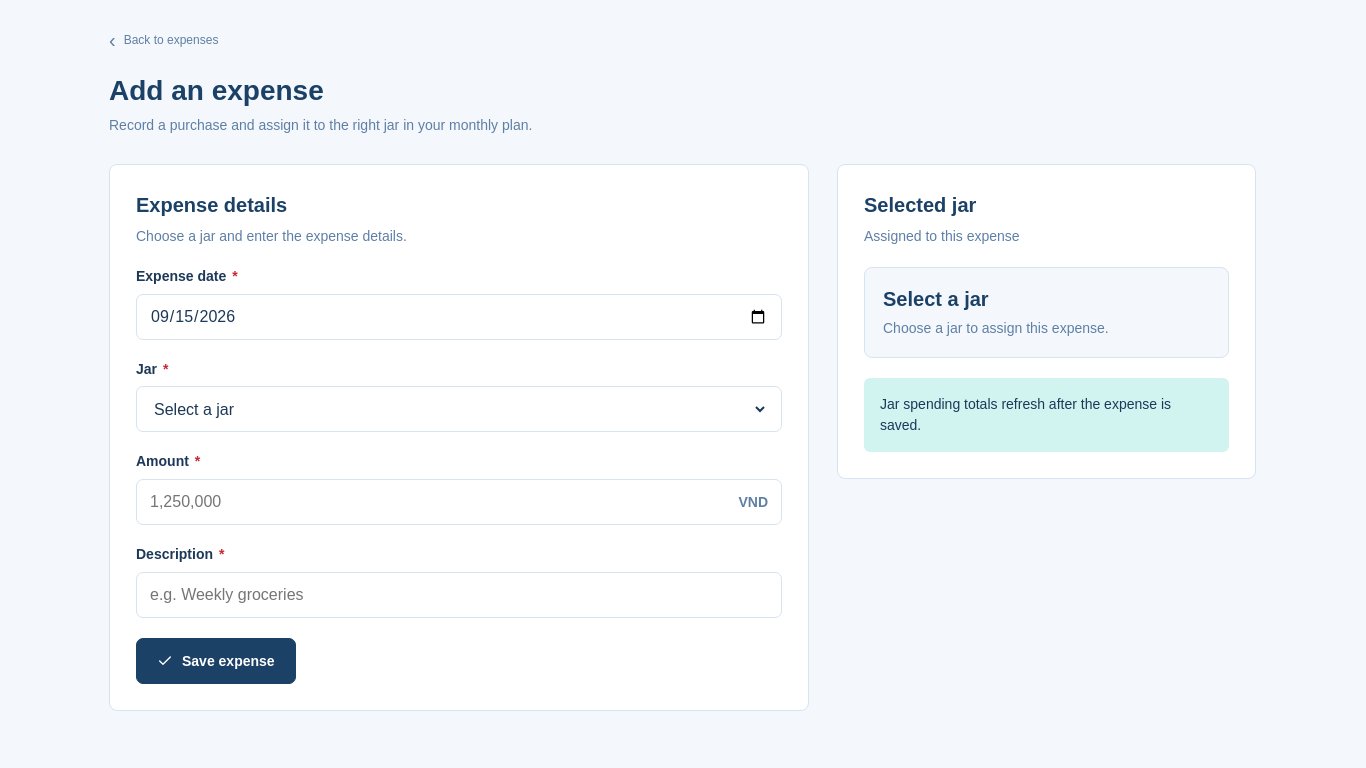
Test: AddExpensePageComponent › month changes (AC1, AC5, AC6, TC_F3_001, TC_F3_007) › shows a date error and sends nothing for 29 February of a non-leap year
Type "2026-02-29" into the date field with id "expense-date" at (459, 317), box [150,296,768,338]
Wait 300 ms
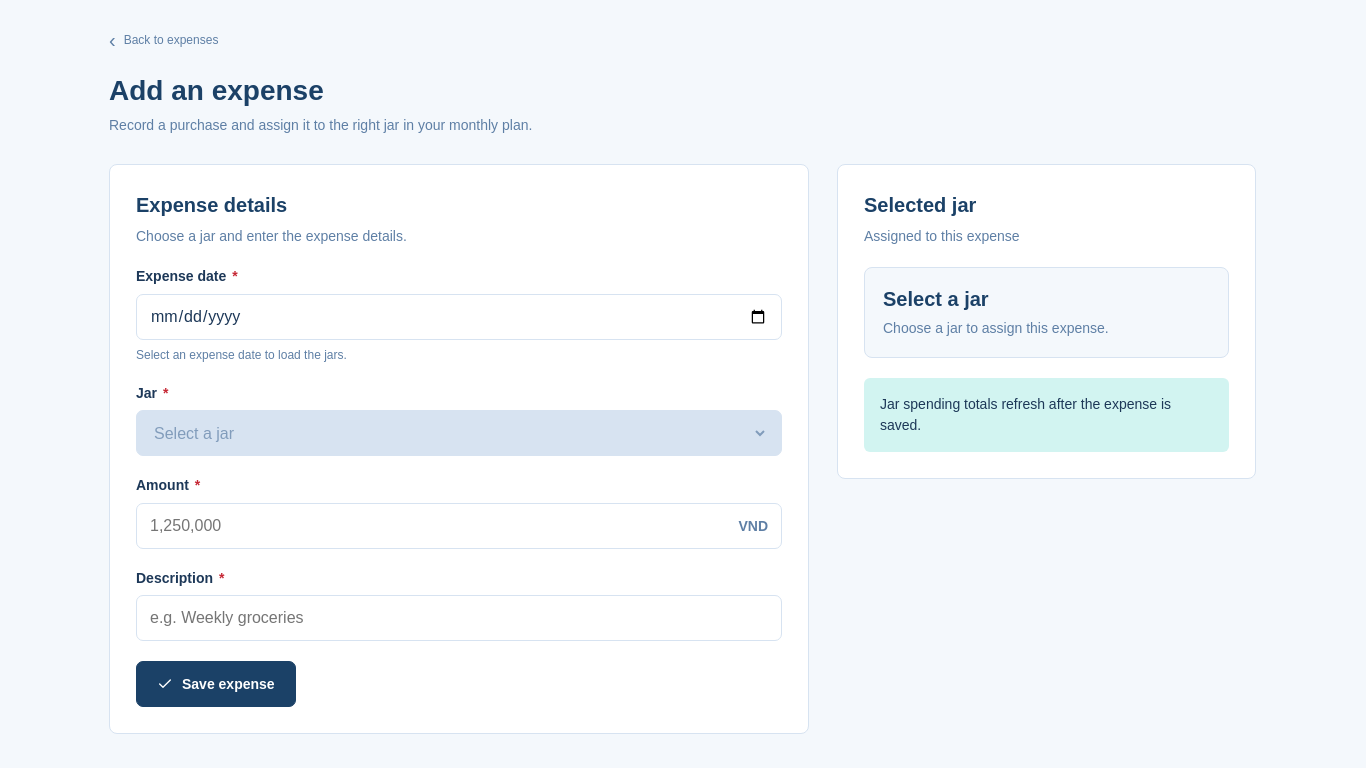
Leave the date field with id "expense-date", box [150,296,768,338]
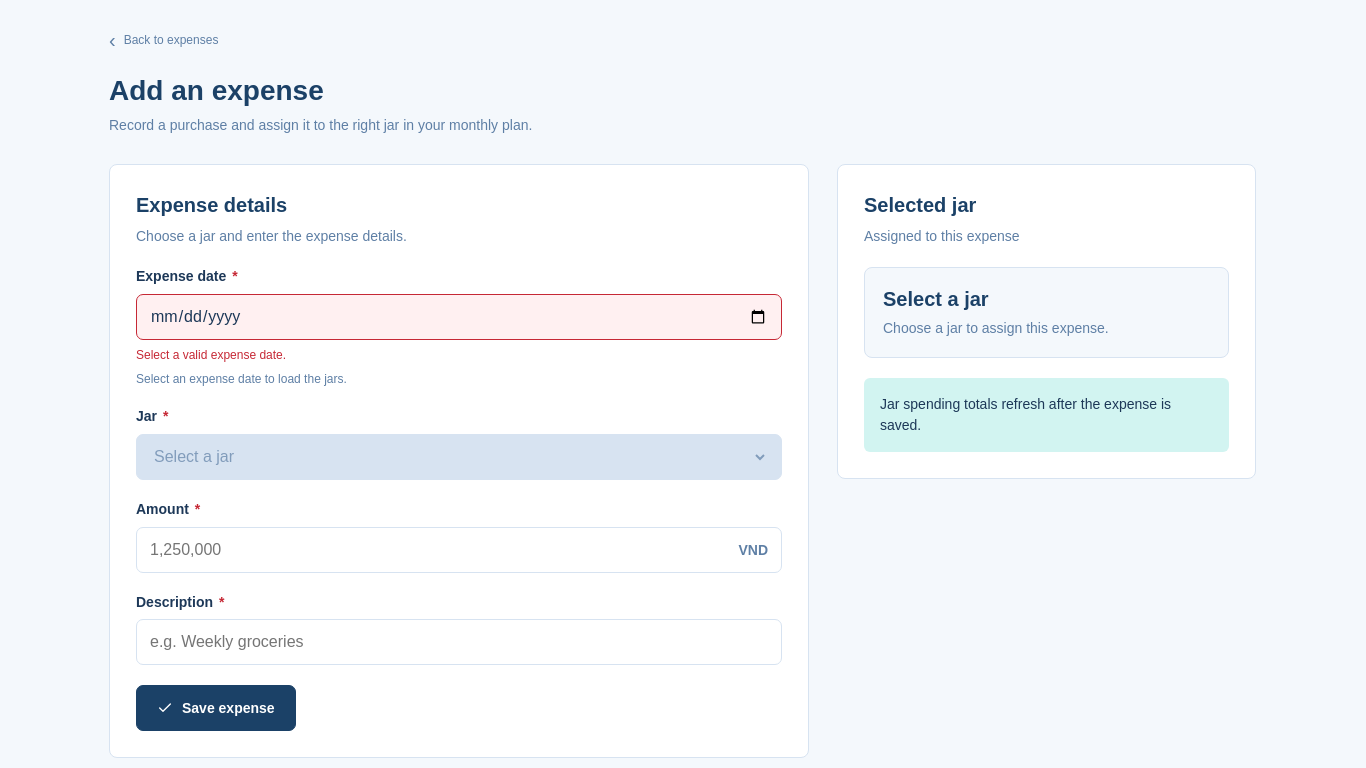
expect the message "Select a valid expense date." is shown: met, box [136,348,286,362]
